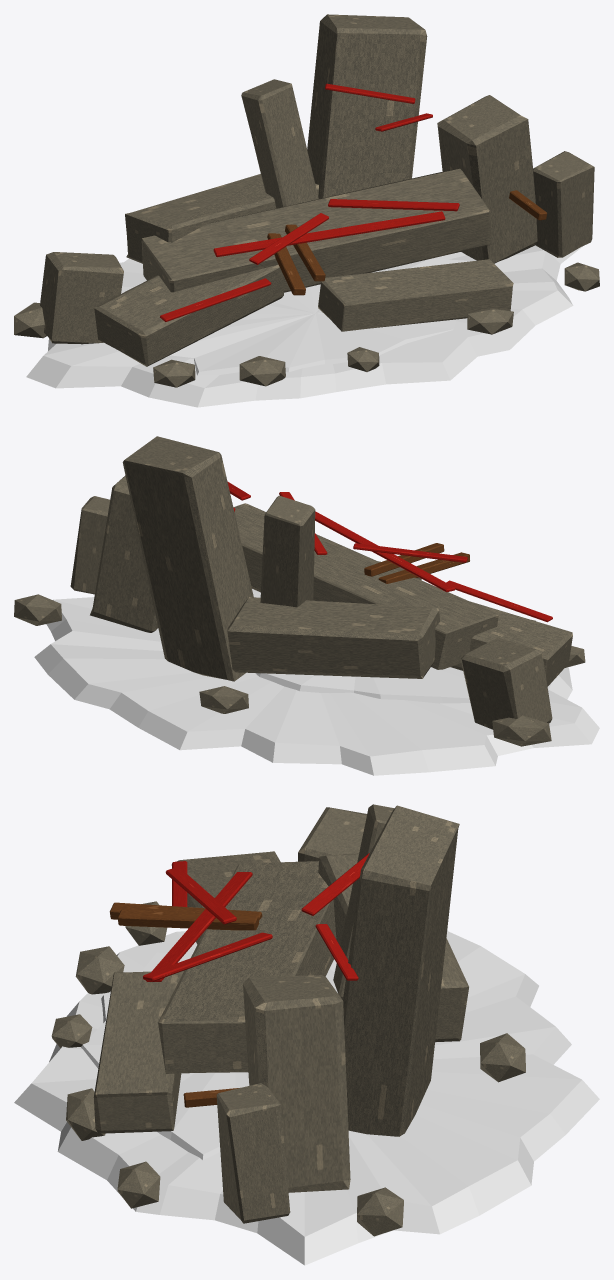
The model's file is SM_GIA_BloodAxeCairnSlabCluster_A01_Complete.fbx.
3 views of the same model, one above another, from view 1: azimuth 30°, elevation 25°; view 2: azimuth 150°, elevation 25°; view 3: azimuth 270°, elevation 25° (orthographic). The views are drawn at different scales.
Visible parts, largest first — view 1: LOD0_AshMudGroundingMound, LOD0_Stone_DominantBloodAxeFaceSlab, LOD0_Stone_RearUprightOathStone, LOD0_FrontMudAndStoneScuff, LOD0_Stone_RightStandingGuardStone, LOD0_Stone_FrontBrokenCapstone, LOD0_Stone_LeftStackedForeSlab, LOD0_Stone_NeedleShardRearLeft, LOD0_Stone_LeftBackBrokenShard, LOD0_Stone_RearLowSupportSlab, LOD0_Stone_SmallRightStakeStone, LOD0_BloodAxePaint_MainLongBloodAxeStroke (+12 smaller); view 2: LOD0_AshMudGroundingMound, LOD0_Stone_RearUprightOathStone, LOD0_Stone_RearLowSupportSlab, LOD0_Stone_DominantBloodAxeFaceSlab, LOD0_Stone_LeftBackBrokenShard, LOD0_Stone_RightStandingGuardStone, LOD0_Stone_NeedleShardRearLeft, LOD0_FrontMudAndStoneScuff, LOD0_Stone_LeftStackedForeSlab, LOD0_Stone_SmallRightStakeStone, LOD0_LooseStone_507, LOD0_BloodAxePaint_MainLongBloodAxeStroke (+6 smaller); view 3: LOD0_AshMudGroundingMound, LOD0_Stone_RearUprightOathStone, LOD0_Stone_DominantBloodAxeFaceSlab, LOD0_Stone_RightStandingGuardStone, LOD0_Stone_FrontBrokenCapstone, LOD0_Stone_SmallRightStakeStone, LOD0_FrontMudAndStoneScuff, LOD0_Stone_RearLowSupportSlab, LOD0_Stone_LeftBackBrokenShard, LOD0_Stone_LeftStackedForeSlab, LOD0_Stone_NeedleShardRearLeft, LOD0_Rawhide_CenterRawhideBindingB (+13 smaller).
Boxes of the visible parts, x1,y1,x2,y2 form: LOD0_AshMudGroundingMound: (26, 245, 582, 407); LOD0_Stone_DominantBloodAxeFaceSlab: (141, 168, 491, 292); LOD0_Stone_RearUprightOathStone: (307, 14, 427, 198); LOD0_FrontMudAndStoneScuff: (164, 258, 471, 375); LOD0_Stone_RightStandingGuardStone: (437, 95, 537, 263); LOD0_Stone_FrontBrokenCapstone: (318, 259, 513, 331); LOD0_Stone_LeftStackedForeSlab: (94, 264, 283, 366); LOD0_Stone_NeedleShardRearLeft: (241, 79, 318, 208); LOD0_Stone_LeftBackBrokenShard: (40, 252, 123, 344); LOD0_Stone_RearLowSupportSlab: (125, 174, 318, 263); LOD0_Stone_SmallRightStakeStone: (533, 151, 594, 257); LOD0_BloodAxePaint_MainLongBloodAxeStroke: (213, 211, 445, 257); LOD0_AshMudGroundingMound: (34, 589, 599, 775); LOD0_Stone_RearUprightOathStone: (122, 436, 253, 681); LOD0_Stone_RearLowSupportSlab: (227, 597, 440, 678); LOD0_Stone_DominantBloodAxeFaceSlab: (233, 503, 498, 669); LOD0_Stone_LeftBackBrokenShard: (460, 637, 552, 729); LOD0_Stone_RightStandingGuardStone: (90, 475, 158, 632); LOD0_Stone_NeedleShardRearLeft: (260, 495, 315, 607); LOD0_FrontMudAndStoneScuff: (253, 593, 470, 703); LOD0_Stone_LeftStackedForeSlab: (450, 601, 572, 686); LOD0_Stone_SmallRightStakeStone: (70, 496, 109, 594); LOD0_LooseStone_507: (492, 715, 551, 746); LOD0_BloodAxePaint_MainLongBloodAxeStroke: (315, 511, 455, 592); LOD0_AshMudGroundingMound: (14, 931, 599, 1265); LOD0_Stone_RearUprightOathStone: (343, 805, 459, 1136); LOD0_Stone_DominantBloodAxeFaceSlab: (158, 861, 336, 1073); LOD0_Stone_RightStandingGuardStone: (243, 975, 350, 1192); LOD0_Stone_FrontBrokenCapstone: (93, 970, 183, 1133); LOD0_Stone_SmallRightStakeStone: (216, 1083, 290, 1223); LOD0_FrontMudAndStoneScuff: (81, 952, 337, 1160); LOD0_Stone_RearLowSupportSlab: (318, 853, 468, 1042); LOD0_Stone_LeftBackBrokenShard: (298, 807, 366, 861); LOD0_Stone_LeftStackedForeSlab: (171, 851, 280, 944); LOD0_Stone_NeedleShardRearLeft: (333, 804, 393, 999); LOD0_Rawhide_CenterRawhideBindingB: (117, 910, 259, 930).
Size of the model in its own units: 402 by 162 by 272.
